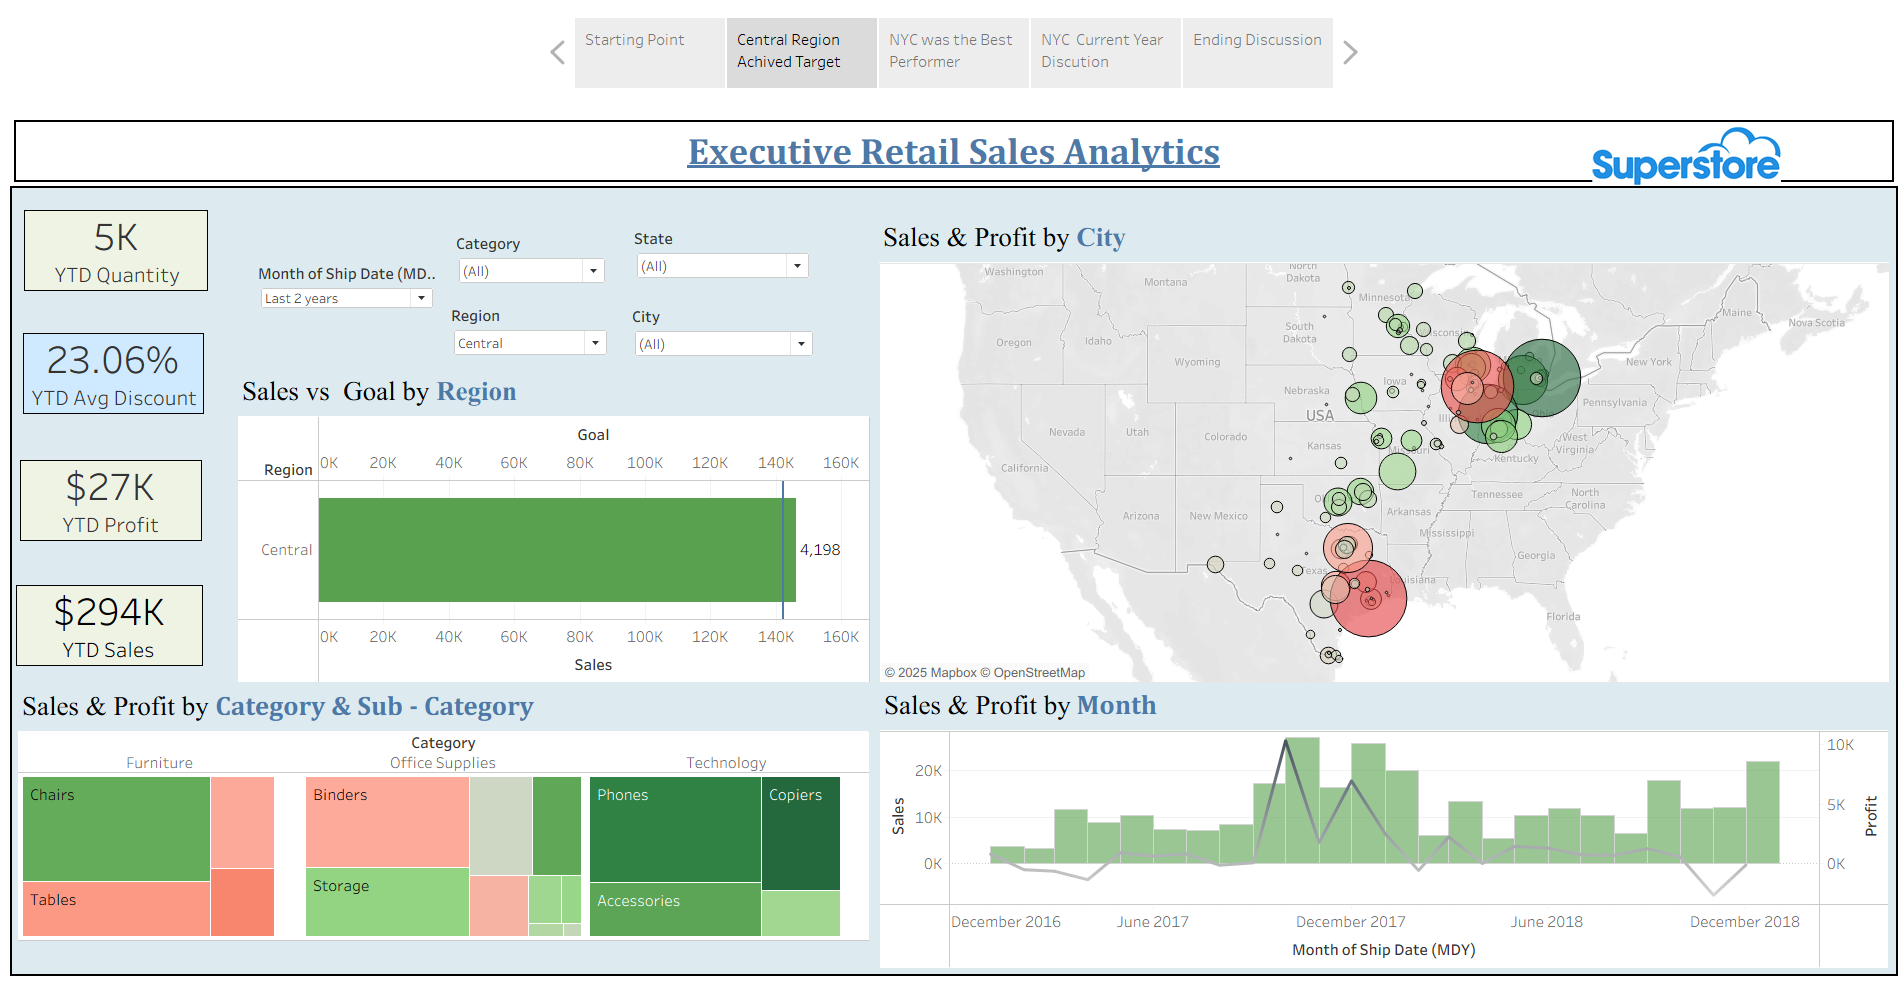

The page's visual inventory and layout, read from the dashboard file:
{"tool":"tableau","page":{"name":"Dashboard 1","canvas":[1000,1000],"units":"permille","ordinal":0},"visuals":[{"type":"title","box":[4.8,10,990.3,87.4]},{"type":"image","param":"Image/download.png","box":[835.2,20,109.8,67.4]},{"type":"worksheet","title":"Sheet 6 (3)","mark":"Automatic","box":[11.5,116.1,112.9,107.4]},{"type":"worksheet","title":"Sheet 3","mark":"Automatic","box":[460.5,126.1,531.1,530.6]},{"type":"filter","title":"Sheet 3","param":"[federated.0hnb2jl033wxgv19xz3st11ub5jo].[none:State:nk]","box":[331.9,137.3,93.5,72.4]},{"type":"filter","title":"Sheet 4","param":"[federated.0hnb2jl033wxgv19xz3st11ub5jo].[none:Category:nk]","box":[238.4,142.3,79.7,76.2]},{"type":"filter","title":"Sheet 5","param":"[federated.0hnb2jl033wxgv19xz3st11ub5jo].[tmn:Ship Date (MDY):qk]","box":[134.6,177.3,93.5,72.4]},{"type":"filter","title":"Sheet 2","param":"[federated.0hnb2jl033wxgv19xz3st11ub5jo].[none:Region:nk]","box":[236,224.7,83.3,73.7]},{"type":"filter","title":"Sheet 3","param":"[federated.0hnb2jl033wxgv19xz3st11ub5jo].[none:City:nk]","box":[330.7,226,96.6,82.4]},{"type":"worksheet","title":"Sheet 6 (4)","mark":"Automatic","box":[10.9,257.2,109.8,101.1]},{"type":"worksheet","title":"Sheet 2","mark":"Automatic","rows":["Region"],"cols":["Sales","Goal"],"box":[123.7,300.9,331.9,354.6]},{"type":"worksheet","title":"Sheet 6 (2)","mark":"Automatic","box":[9.7,402,111,103.6]},{"type":"worksheet","title":"Sheet 6","mark":"Automatic","box":[7.2,544.3,113.5,112.4]},{"type":"worksheet","title":"Sheet 5","mark":"Automatic","rows":["Sales","Profit"],"cols":["Ship Date (MDY)"],"box":[461.1,657.9,529.9,324.6]},{"type":"worksheet","title":"Sheet 4","mark":"Automatic","cols":["Category"],"box":[8.4,659.2,447.2,320.9]}]}

Visuals, with their boxes on the dashboard's canvas, which has no fixed pixel size, in thousandths of its width and height (x1, y1, x2, y2). These are canvas units, not pixel positions in the 1904x985 screenshot, which may show the page scaled, cropped or inside an application window:
title: x1=5, y1=10, x2=995, y2=97
image: x1=835, y1=20, x2=945, y2=87
"Sheet 6 (3)" worksheet: x1=12, y1=116, x2=124, y2=224
"Sheet 3" worksheet: x1=460, y1=126, x2=992, y2=657
"Sheet 3" filter: x1=332, y1=137, x2=425, y2=210
"Sheet 4" filter: x1=238, y1=142, x2=318, y2=218
"Sheet 5" filter: x1=135, y1=177, x2=228, y2=250
"Sheet 2" filter: x1=236, y1=225, x2=319, y2=298
"Sheet 3" filter: x1=331, y1=226, x2=427, y2=308
"Sheet 6 (4)" worksheet: x1=11, y1=257, x2=121, y2=358
"Sheet 2" worksheet: x1=124, y1=301, x2=456, y2=656
"Sheet 6 (2)" worksheet: x1=10, y1=402, x2=121, y2=506
"Sheet 6" worksheet: x1=7, y1=544, x2=121, y2=657
"Sheet 5" worksheet: x1=461, y1=658, x2=991, y2=982
"Sheet 4" worksheet: x1=8, y1=659, x2=456, y2=980
